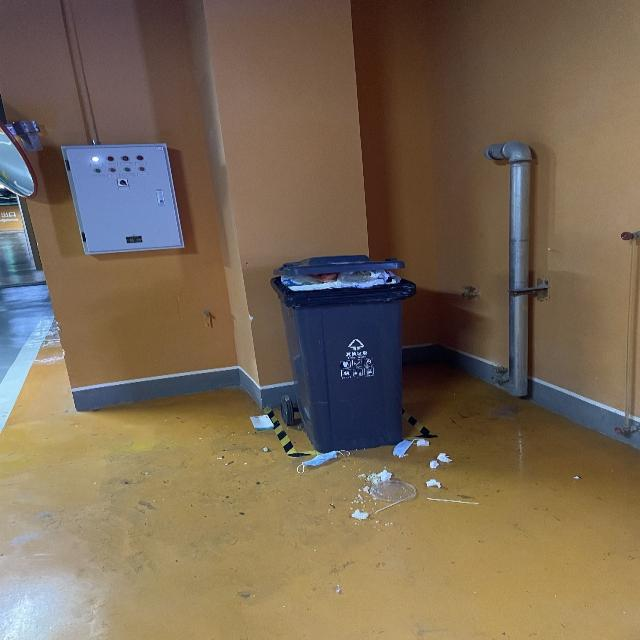garbage: (250, 413, 479, 519)
overflow: (271, 254, 417, 451)
